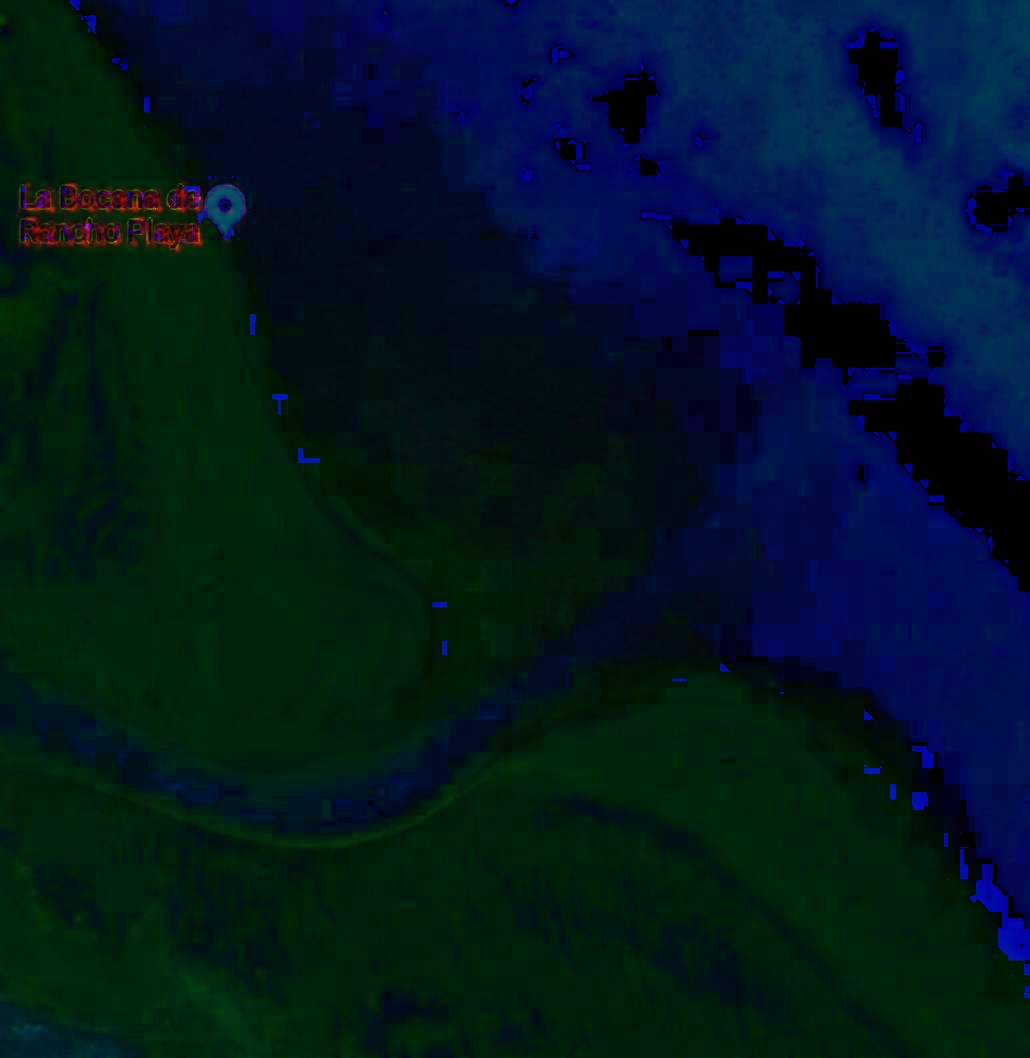rip_current: (583, 242, 916, 641)
